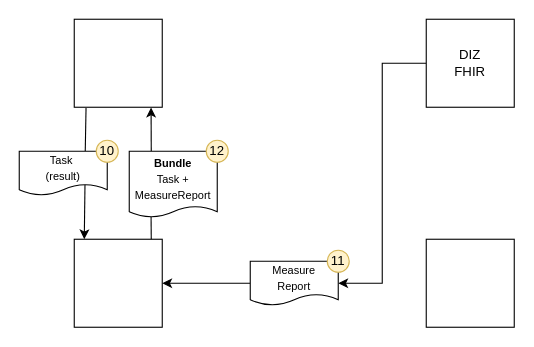
This 534x347 diagram has some shape labels left out. The shapes that lost their labels are listed below. From the top down, each one's centre as x and y in pixels, then its label:
the point at 117,62: ZARS FHIR
the point at 117,282: ZARS BPE
the point at 469,282: DIZ BPE
